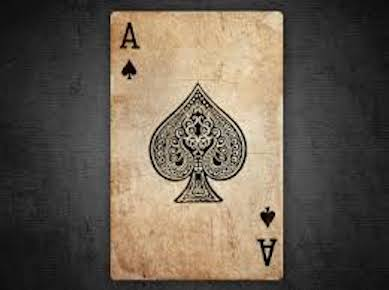AceOfSpades: (109, 6, 286, 285)
